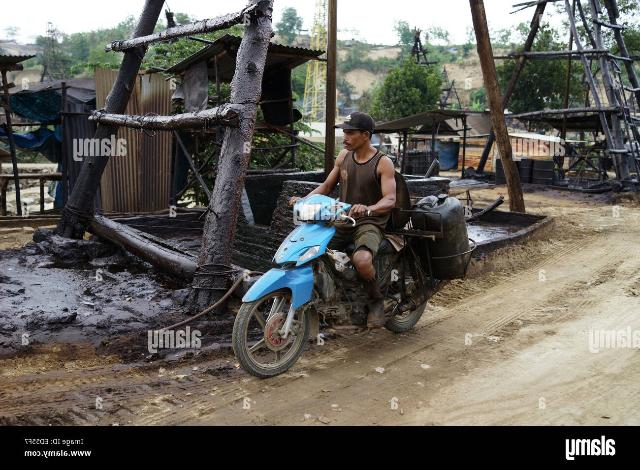motor: (234, 197, 431, 380)
non-helm: (333, 113, 375, 152)
